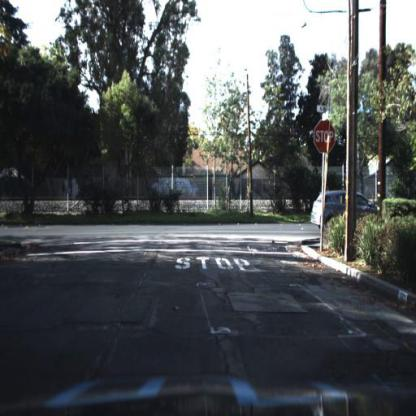car: (311, 190, 390, 238)
